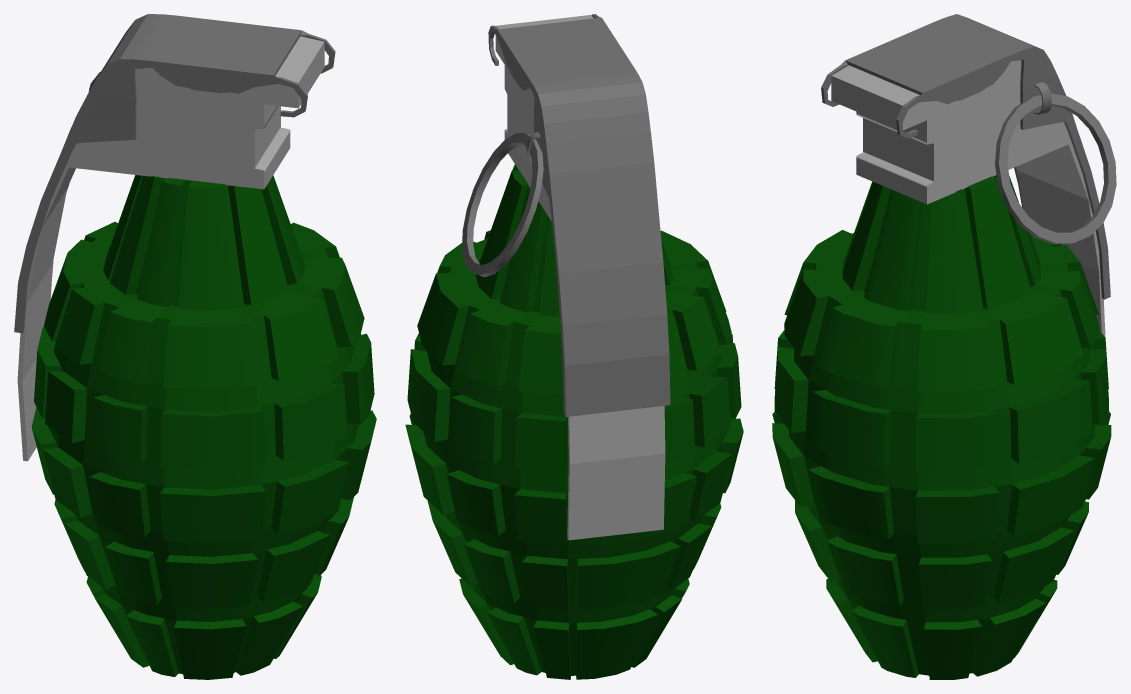
Rendered from Grenade.glb.
3 views of the same model, side by side, from view 1: azimuth 30°, elevation 25°; view 2: azimuth 150°, elevation 25°; view 3: azimuth 270°, elevation 25° (orthographic). The views are drawn at different scales.
Parts seen in each view (by area): view 1: pCube5; view 2: pCube5; view 3: pCube5.
Part boxes in pixels (<box>): pCube5: <box>14,14,376,679</box>; pCube5: <box>405,14,743,679</box>; pCube5: <box>772,14,1116,679</box>.
Size of the model in its own units: 0.0937 by 0.1825 by 0.0952.
